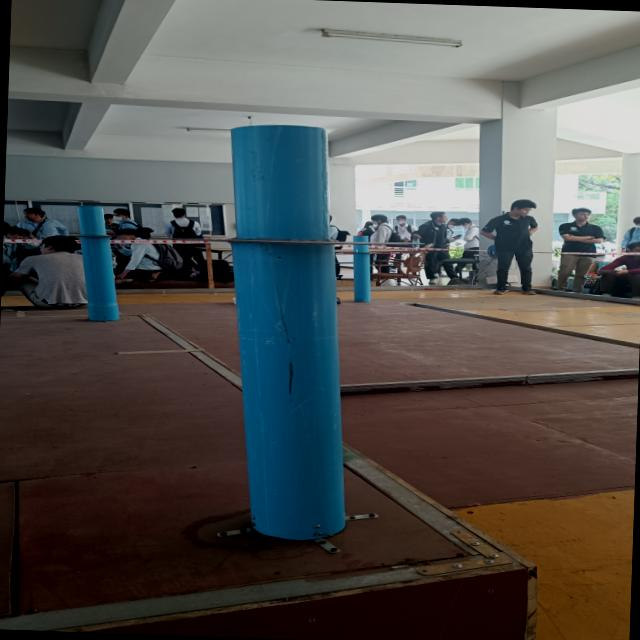pole: (123, 110, 450, 359)
